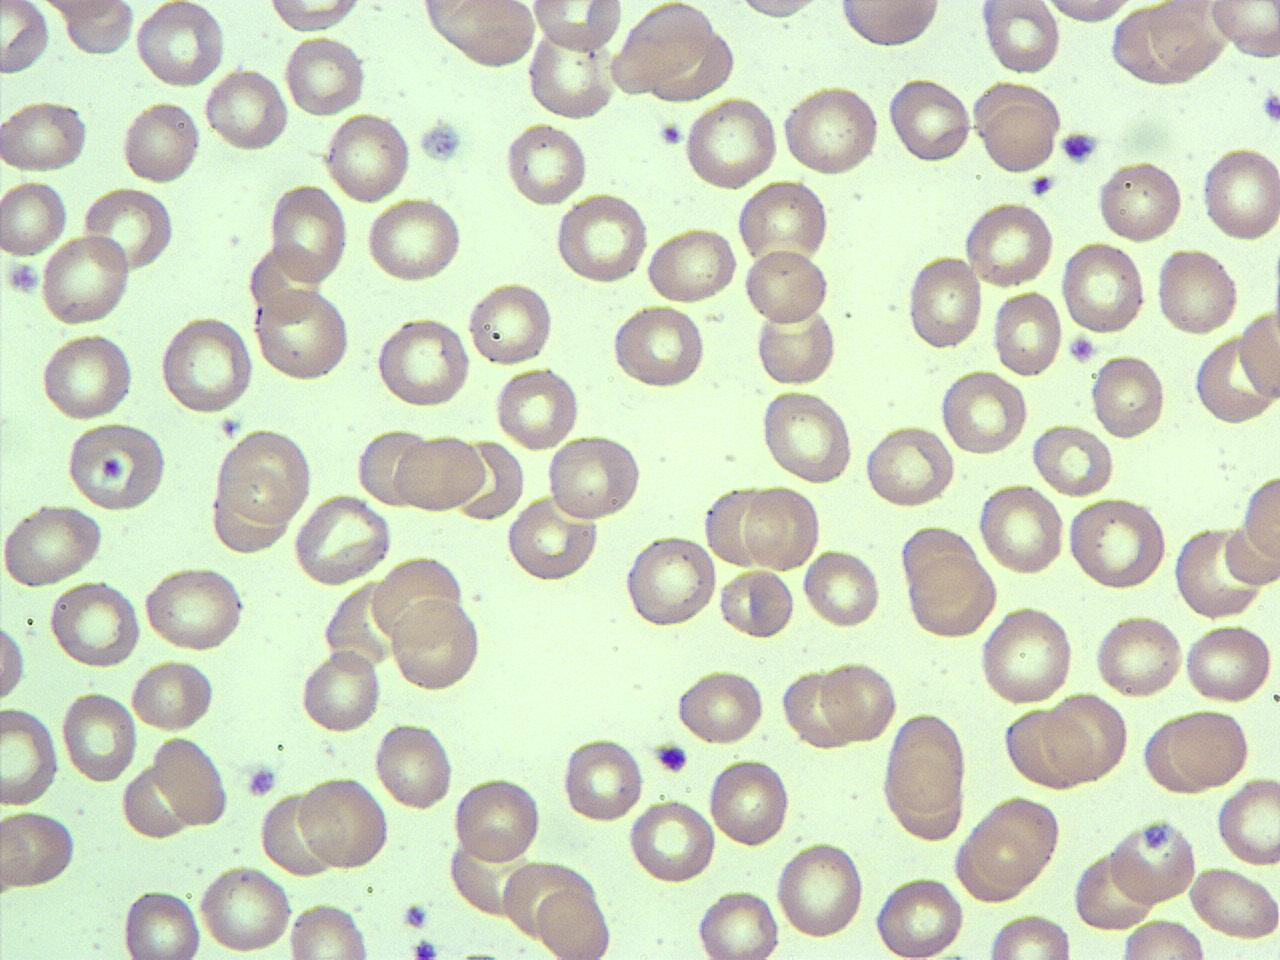Platelets: (241, 759, 280, 801), (1058, 128, 1102, 165), (3, 257, 43, 297), (652, 740, 690, 774), (1066, 332, 1096, 365), (1257, 87, 1280, 128), (402, 900, 431, 932), (1026, 172, 1056, 197), (660, 120, 686, 148), (410, 936, 440, 960)
RBC: (606, 1, 725, 101), (961, 794, 1065, 894), (978, 603, 1077, 707), (63, 420, 172, 513), (250, 284, 352, 383), (158, 312, 256, 415), (1065, 495, 1169, 592), (621, 530, 719, 632), (374, 312, 473, 412), (214, 426, 314, 524), (780, 83, 882, 179), (296, 772, 392, 874), (682, 94, 780, 193), (291, 493, 394, 587), (554, 190, 652, 288), (774, 838, 866, 942), (759, 386, 856, 484), (0, 502, 108, 590), (194, 862, 295, 956), (143, 563, 247, 654), (523, 22, 618, 121), (1172, 520, 1264, 622), (387, 597, 484, 693), (37, 329, 138, 421), (882, 710, 968, 818), (364, 195, 466, 286), (545, 432, 644, 524), (38, 232, 132, 328), (450, 772, 544, 868), (47, 578, 144, 670), (505, 491, 600, 584), (978, 481, 1069, 578), (962, 198, 1057, 290), (862, 421, 958, 512), (80, 184, 177, 274), (906, 549, 1000, 641), (322, 110, 412, 206), (1060, 240, 1148, 338), (609, 303, 708, 390), (132, 1, 229, 89), (1042, 690, 1132, 784), (1090, 612, 1186, 700), (268, 182, 349, 286), (417, 0, 539, 69), (464, 279, 558, 368), (705, 754, 792, 850), (1199, 142, 1280, 245), (1109, 815, 1199, 907), (885, 74, 975, 166), (871, 874, 968, 959), (939, 368, 1030, 458), (736, 179, 830, 266), (1182, 620, 1276, 707), (371, 718, 456, 814), (1095, 156, 1185, 246), (626, 797, 718, 885), (1153, 244, 1239, 338), (503, 118, 590, 210), (59, 686, 139, 786), (904, 252, 984, 352), (976, 83, 1062, 176), (493, 364, 583, 452), (674, 664, 767, 749), (298, 645, 383, 737), (1185, 863, 1280, 944), (643, 226, 739, 306), (118, 98, 205, 186), (1195, 330, 1273, 428), (203, 66, 291, 152), (152, 732, 231, 827), (559, 736, 646, 822), (393, 433, 487, 512), (1088, 352, 1168, 443), (283, 33, 370, 116), (741, 482, 821, 572), (819, 656, 899, 746), (1003, 705, 1087, 790), (754, 307, 839, 390), (742, 247, 831, 326), (258, 787, 334, 879), (800, 546, 883, 630), (0, 98, 91, 173), (1167, 707, 1253, 786), (0, 806, 79, 892), (990, 287, 1065, 377), (780, 664, 855, 753), (129, 658, 216, 734), (0, 701, 61, 809), (694, 886, 783, 960), (702, 480, 774, 570), (118, 884, 203, 960), (978, 0, 1063, 75), (1029, 422, 1113, 496), (1216, 772, 1280, 869), (0, 176, 70, 261), (536, 885, 614, 960), (719, 568, 795, 642), (527, 0, 626, 56), (120, 763, 190, 841), (838, 0, 944, 51), (286, 900, 374, 960), (1206, 0, 1280, 63), (982, 910, 1076, 958), (1235, 305, 1279, 403), (0, 0, 53, 78), (1117, 916, 1209, 958), (1241, 470, 1279, 567), (264, 0, 368, 34), (1, 603, 28, 711), (1038, 0, 1140, 27), (733, 0, 834, 23)
